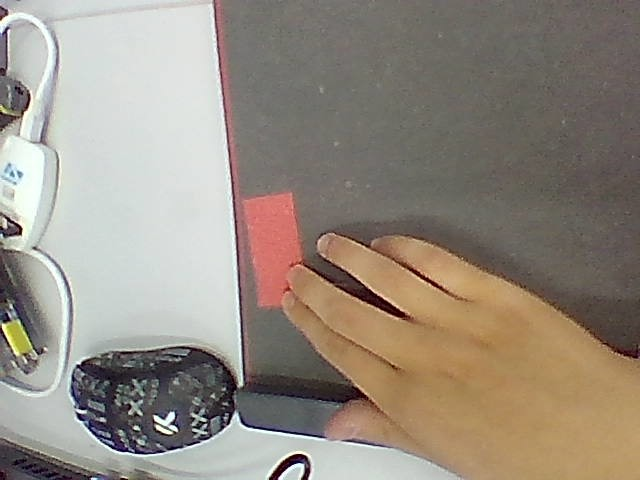card: (243, 192, 301, 307)
